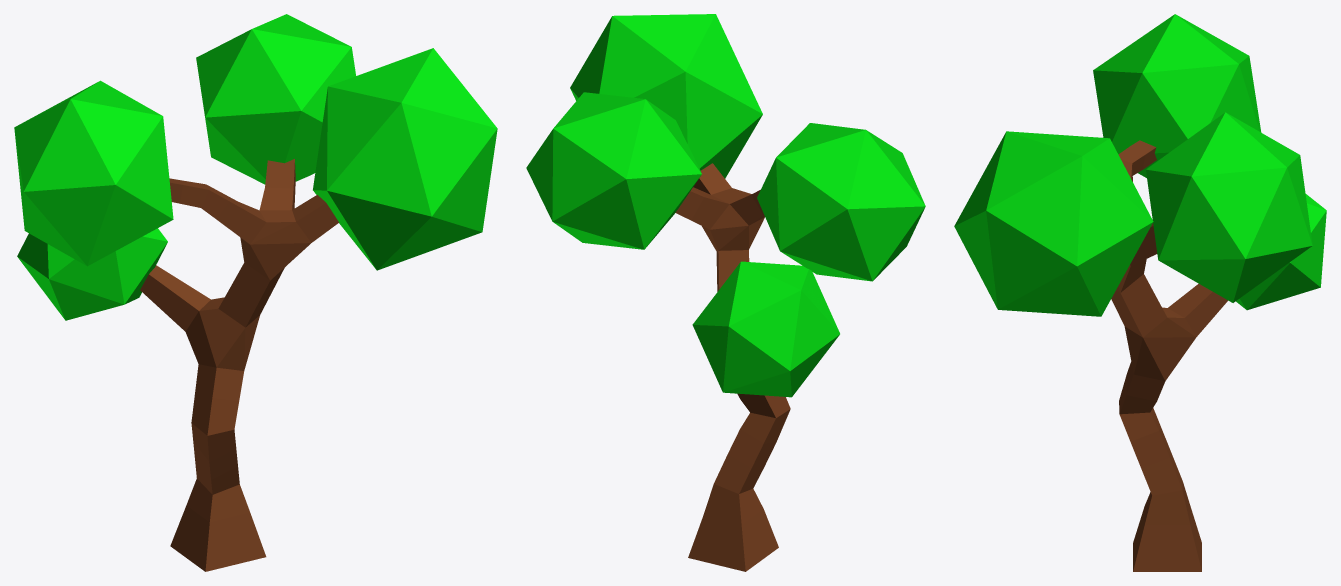
The model's file is tree1.fbx.
3 renders of one model, left to right at view 1: azimuth 30°, elevation 25°; view 2: azimuth 150°, elevation 25°; view 3: azimuth 270°, elevation 25°, orthographic. The views are drawn at different scales.
Parts seen in each view (by area): view 1: Icosphere, Icosphere.001, Tree1, Icosphere.002, Icosphere.004, Tree1.001; view 2: Icosphere.002, Icosphere.001, Icosphere, Icosphere.004, Tree1, Tree1.001; view 3: Icosphere, Icosphere.002, Icosphere.001, Tree1, Tree1.001, Icosphere.004.
Part boxes in pixels (box(x1,y1,x2,y2)): Icosphere: box(313, 48, 497, 270); Icosphere.001: box(14, 80, 173, 266); Tree1: box(140, 159, 338, 494); Icosphere.002: box(196, 14, 355, 184); Icosphere.004: box(17, 228, 167, 320); Tree1.001: box(170, 478, 266, 571); Icosphere.002: box(526, 92, 701, 249); Icosphere.001: box(757, 123, 925, 281); Icosphere: box(570, 14, 762, 178); Icosphere.004: box(692, 261, 839, 397); Tree1: box(675, 163, 790, 493); Tree1.001: box(688, 484, 778, 571); Icosphere: box(954, 131, 1153, 316); Icosphere.002: box(1146, 112, 1312, 302); Icosphere.001: box(1093, 14, 1261, 177); Tree1: box(1111, 140, 1227, 495); Tree1.001: box(1133, 482, 1201, 571); Icosphere.004: box(1236, 194, 1326, 310).
Bounding box in the file's own units: 766 × 865 × 605.
